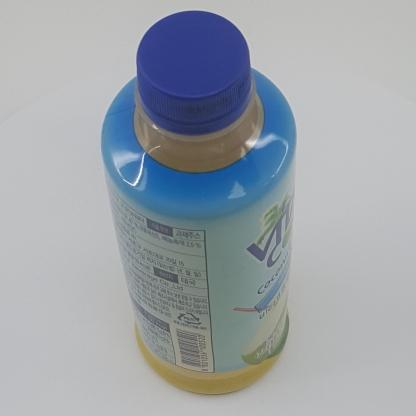----------280ml: (100, 10, 297, 395)
